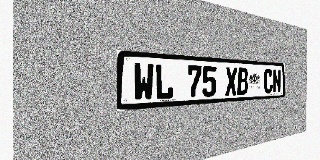5: (202, 66, 216, 97)
7: (187, 65, 202, 98)
B: (237, 67, 248, 95)
C: (264, 69, 272, 93)
L: (155, 63, 173, 100)
N: (273, 69, 281, 93)
W: (133, 62, 154, 101)
X: (225, 67, 237, 96)
